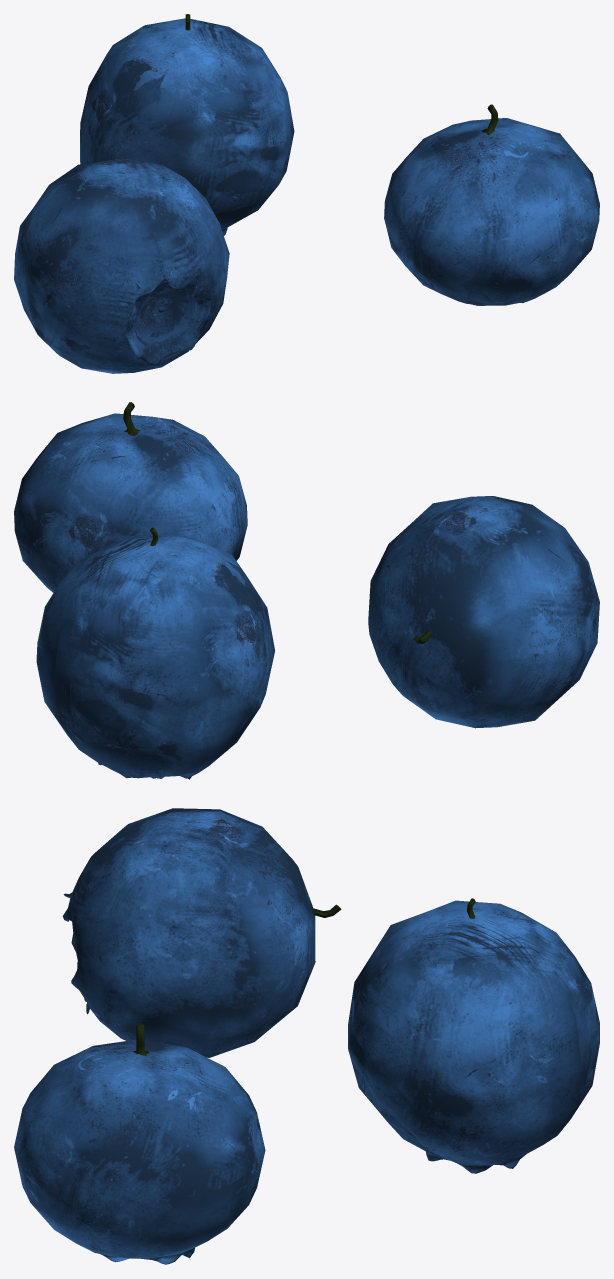
Rendered from blueberry.glb.
3 renders of one model, top to bottom at view 1: azimuth 30°, elevation 25°; view 2: azimuth 150°, elevation 25°; view 3: azimuth 270°, elevation 25°, orthographic. The views are drawn at different scales.
Visible parts, largest first — view 1: Box010; view 2: Box010; view 3: Box010.
Part boxes in pixels (x1=…): Box010: x1=14, y1=14, x2=599, y2=373; Box010: x1=14, y1=402, x2=599, y2=779; Box010: x1=14, y1=808, x2=599, y2=1264.
Bounding box in the file's own units: 0.037 × 0.0144 × 0.03.
1 material, 1 textured.
